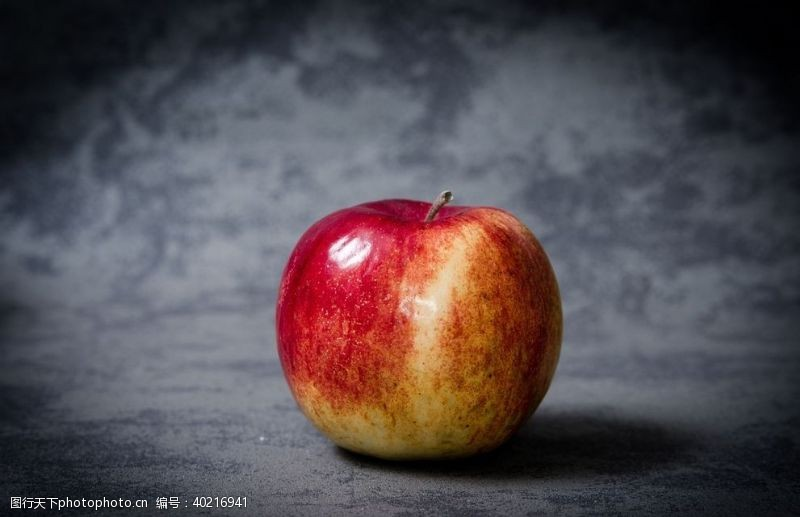apple: (274, 196, 568, 467)
